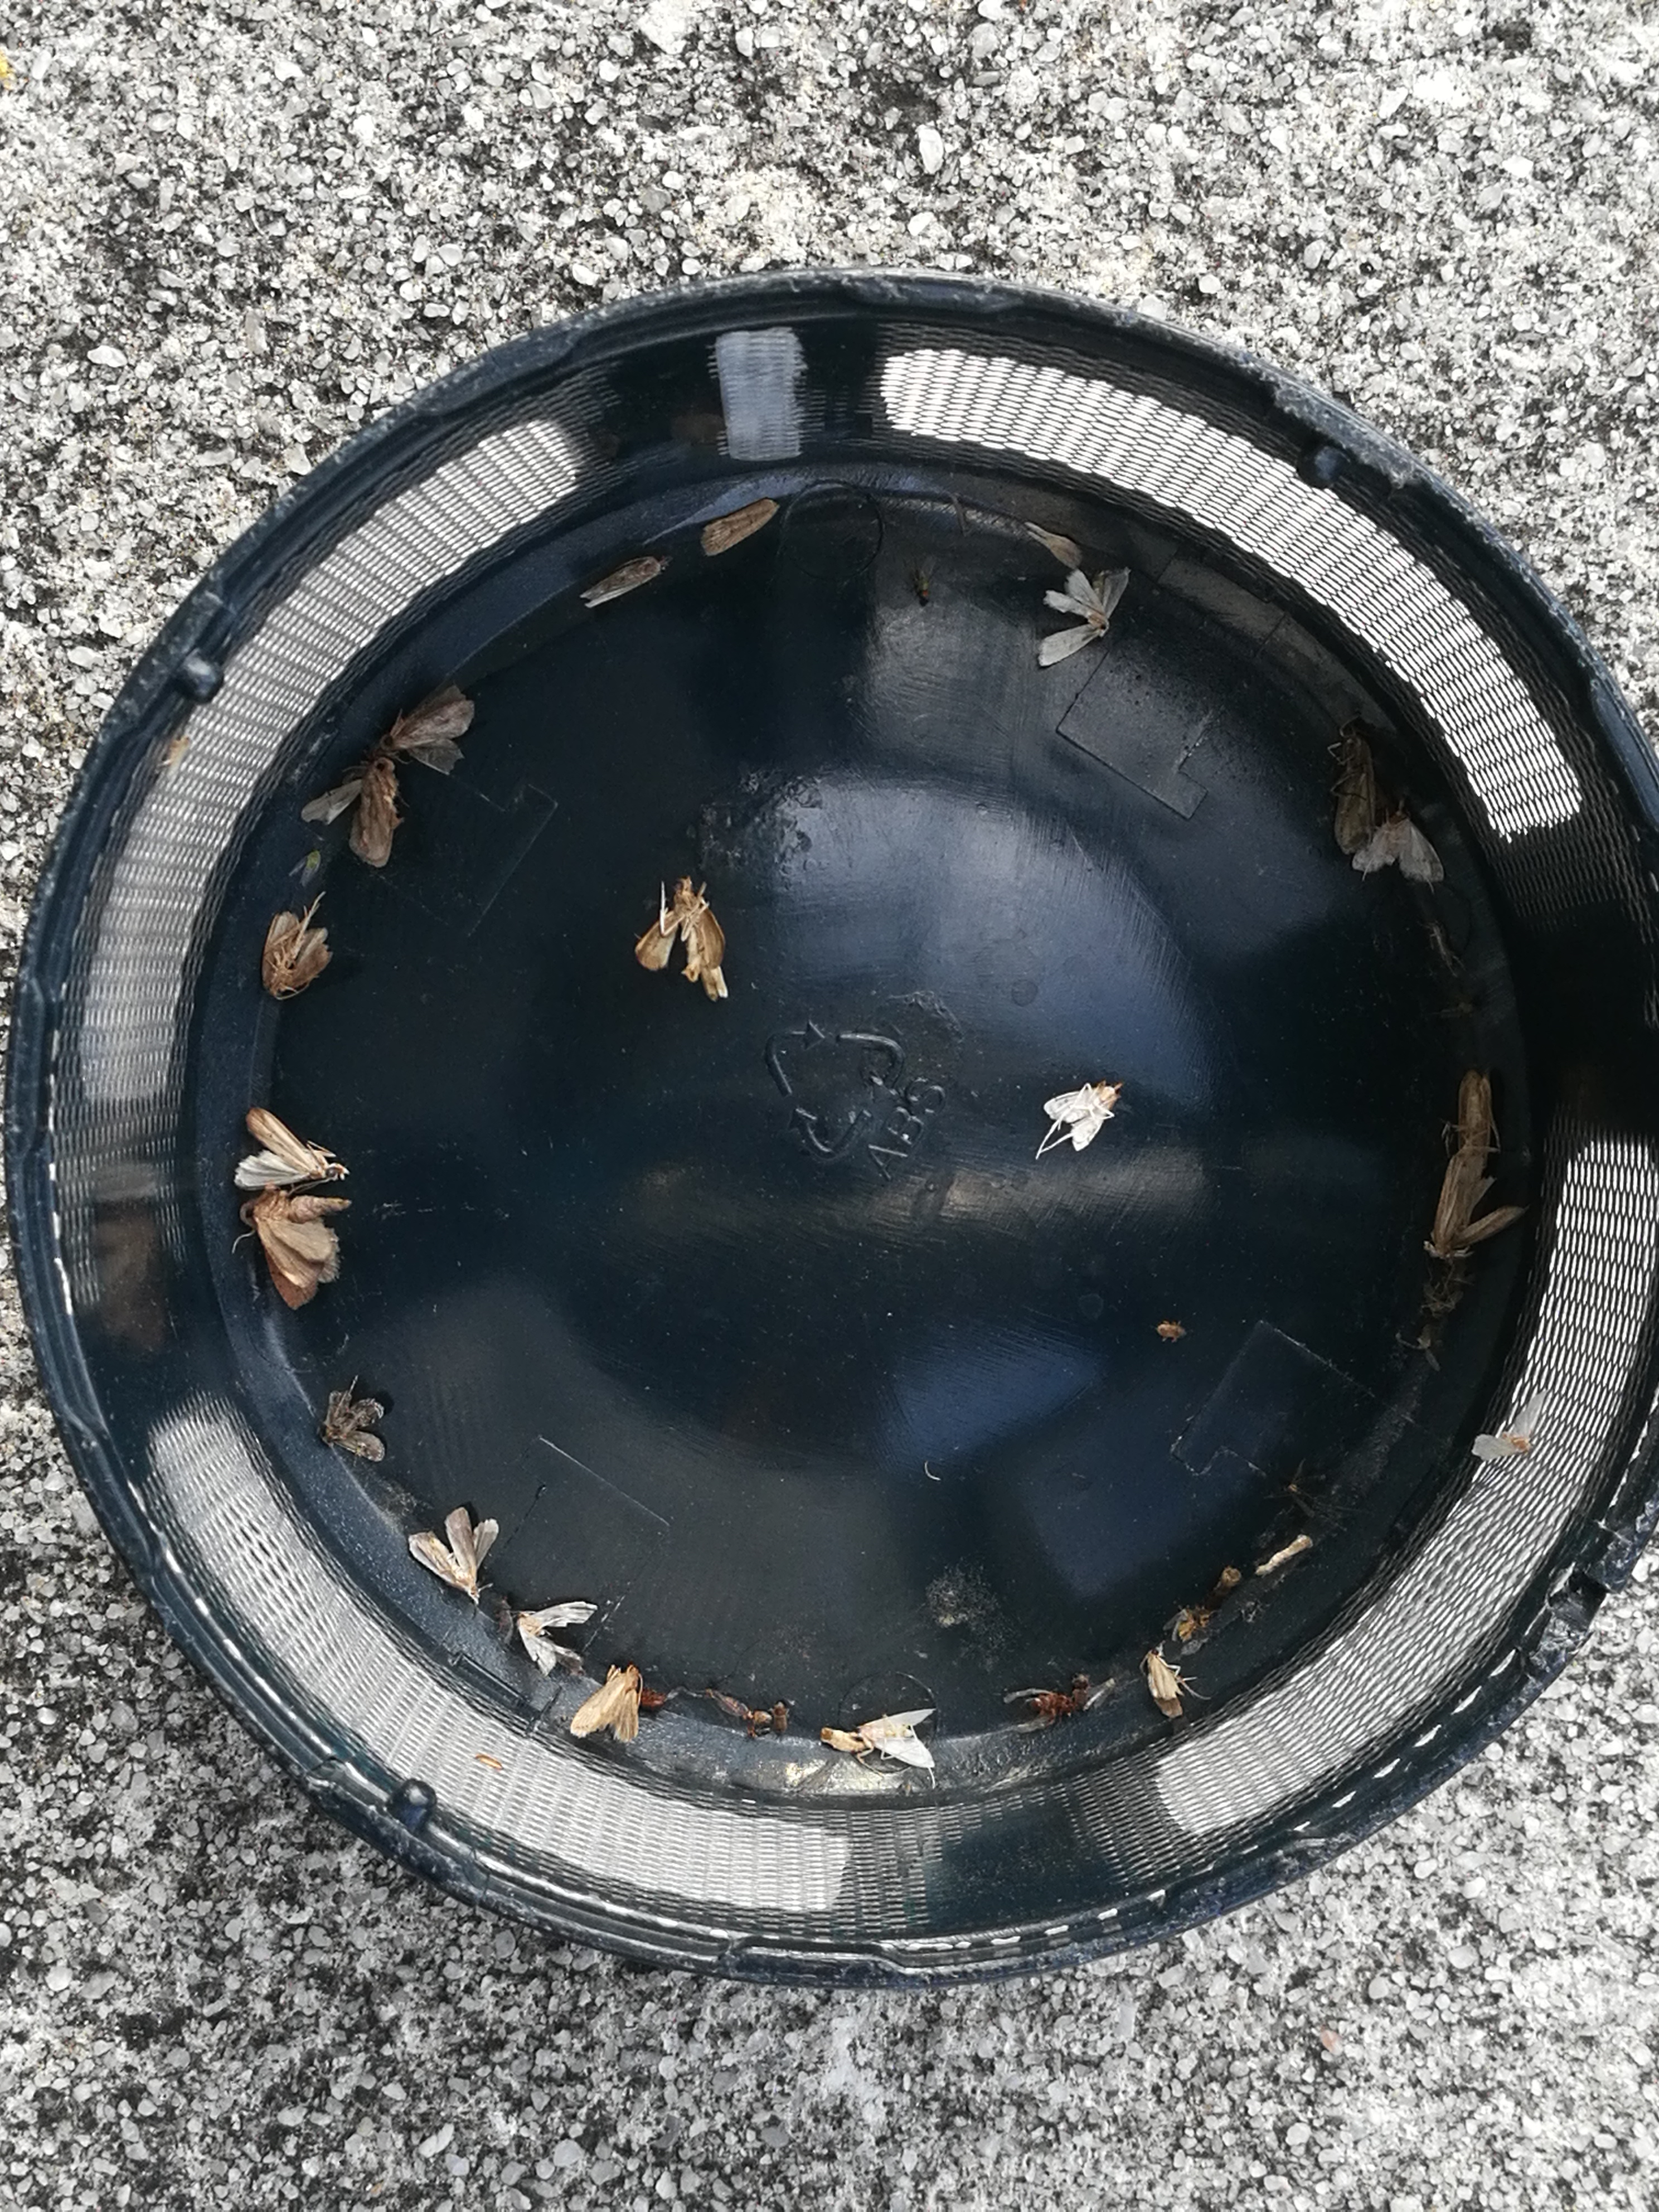mosquito: (582, 557, 664, 604), (1457, 1071, 1490, 1163)
moth: (240, 1197, 352, 1310), (1425, 1150, 1527, 1259), (636, 880, 727, 1001), (303, 758, 392, 867), (234, 1109, 345, 1188), (1039, 570, 1126, 667), (380, 683, 472, 773), (410, 1508, 497, 1597), (1356, 810, 1445, 883), (261, 909, 333, 998), (516, 1602, 598, 1677), (1047, 1080, 1124, 1151), (572, 1669, 641, 1738), (319, 1393, 383, 1463), (861, 1707, 932, 1770), (1147, 1644, 1183, 1717)
